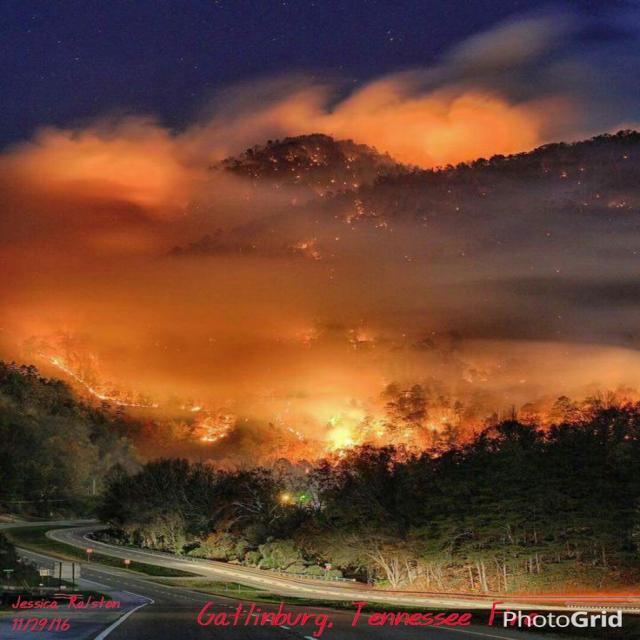Fire: (0, 348, 640, 483)
Smoke: (0, 0, 640, 385)
